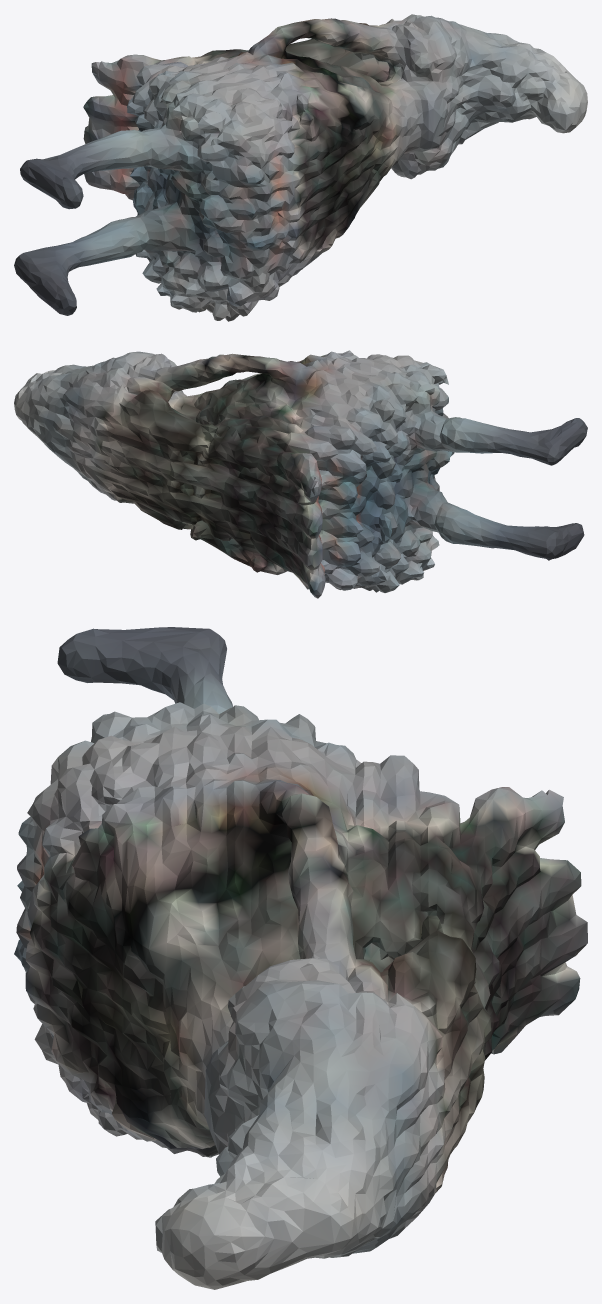
File: chapeleiro_lowpoly_uv.glb
The picture shows the model from 3 angles, top to bottom: view 1: azimuth 30°, elevation 25°; view 2: azimuth 150°, elevation 25°; view 3: azimuth 270°, elevation 25°; orthographic projection. The views are drawn at different scales.
Visible parts, largest first — view 1: TripoHP; view 2: TripoHP; view 3: TripoHP.
Part boxes in pixels (x1,y1,x2,y2): TripoHP: (14,14,587,321); TripoHP: (14,350,587,598); TripoHP: (14,627,587,1289).
Size of the model in its own units: 1.01 by 0.4081 by 0.4859.
